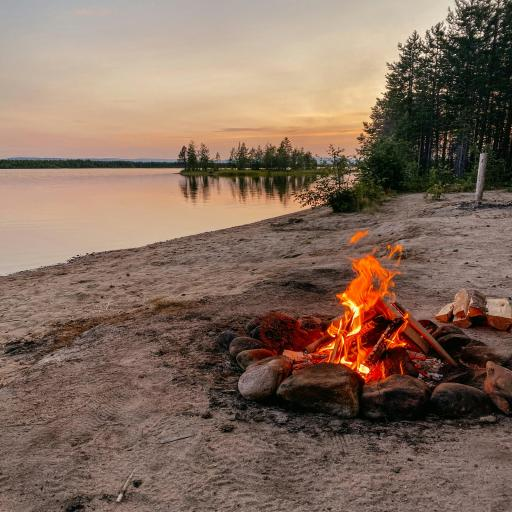campfire: (203, 221, 512, 435)
